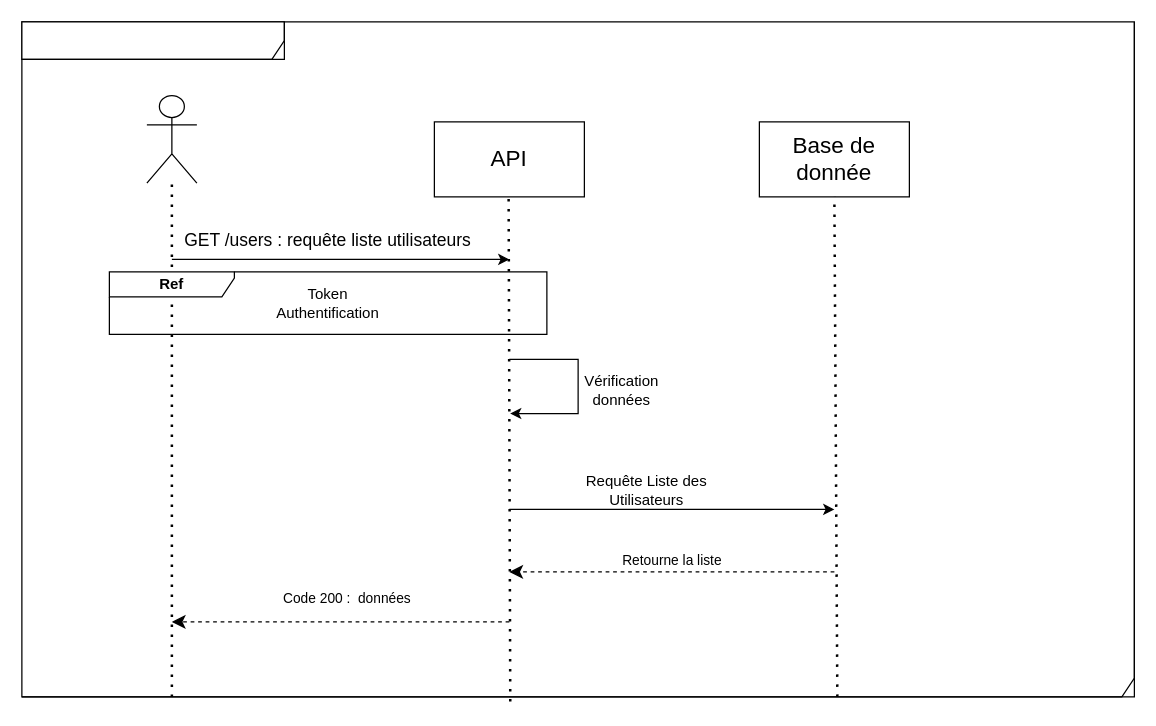
Image size: 1156x726. Some labels were removed from this diagram. The centre of each missing label's shape, as x and y in pixels:
Client: (171,138)
Séquence Consulter Liste Utilisateur: (152,40)
